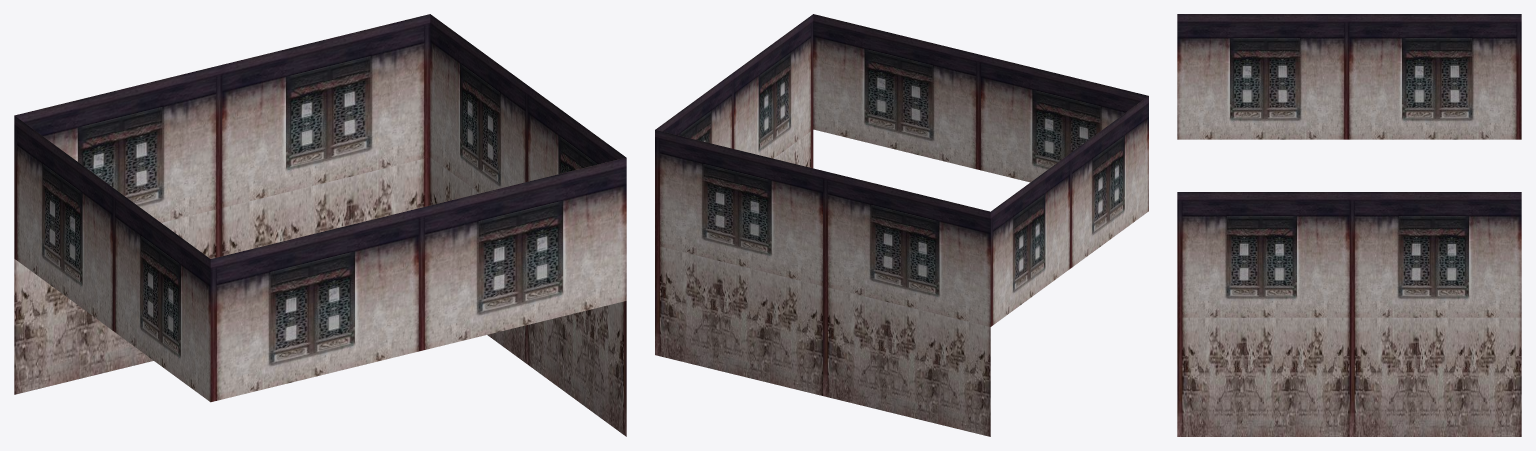
3 renders of one model, left to right at view 1: azimuth 30°, elevation 25°; view 2: azimuth 150°, elevation 25°; view 3: azimuth 270°, elevation 25°, orthographic. The views are drawn at different scales.
Parts seen in each view (by area): view 1: Shape34; view 2: Shape34; view 3: Shape34.
Boxes of the visible parts, x1=… form: Shape34: x1=14, y1=14, x2=626, y2=436; Shape34: x1=655, y1=14, x2=1148, y2=436; Shape34: x1=1177, y1=14, x2=1521, y2=436.
Size of the model in its own units: 309 by 199 by 253.
